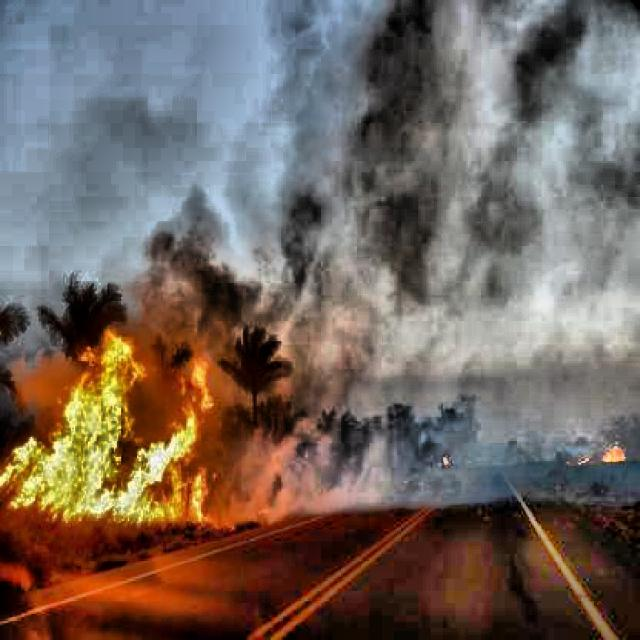Fire: (0, 333, 212, 526)
